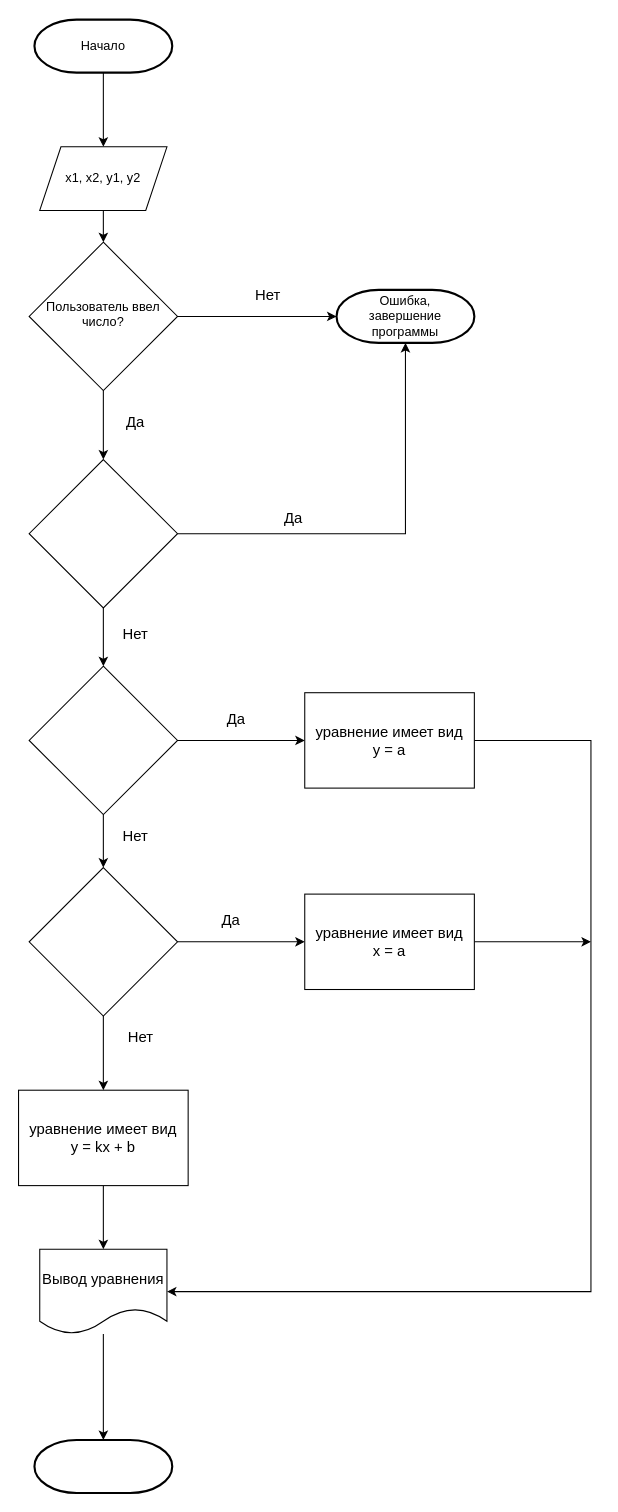
This 618x1512 diagram has some shape labels left out. The shapes that lost their labels are listed below. From the top down, each one's box as (x1, y1, x2, y2) in pixels, then its label:
(28, 458, 178, 608): x1 = x2 И y1 = y2
(28, 665, 178, 815): y1 = y2
(28, 867, 178, 1016): x1 = x2
(33, 1438, 173, 1494): Конец
